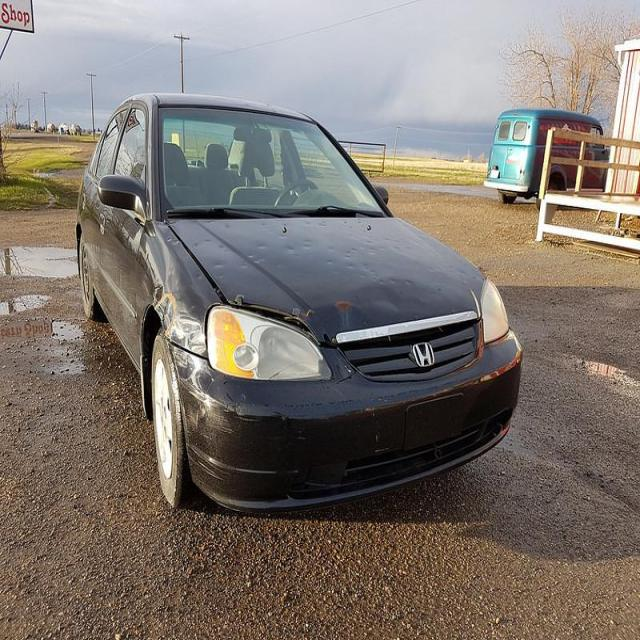dent: (152, 285, 209, 358), (301, 302, 370, 336), (363, 262, 386, 292), (246, 253, 265, 264), (301, 238, 312, 248), (365, 237, 378, 245), (393, 244, 403, 253), (286, 244, 296, 252), (404, 278, 412, 287), (368, 247, 376, 256), (275, 261, 285, 268), (191, 242, 200, 249), (214, 262, 224, 268), (326, 258, 334, 265), (258, 243, 267, 249), (360, 273, 367, 280), (327, 245, 334, 252), (240, 263, 248, 269), (345, 251, 351, 259), (390, 276, 395, 285), (380, 245, 386, 252), (348, 263, 354, 269), (436, 287, 442, 293), (172, 239, 178, 245), (166, 237, 172, 243), (217, 273, 224, 278), (204, 238, 211, 243), (218, 244, 225, 249), (351, 247, 358, 252), (197, 273, 202, 280), (359, 246, 365, 251), (384, 238, 391, 241), (395, 240, 401, 243), (406, 247, 410, 250)
